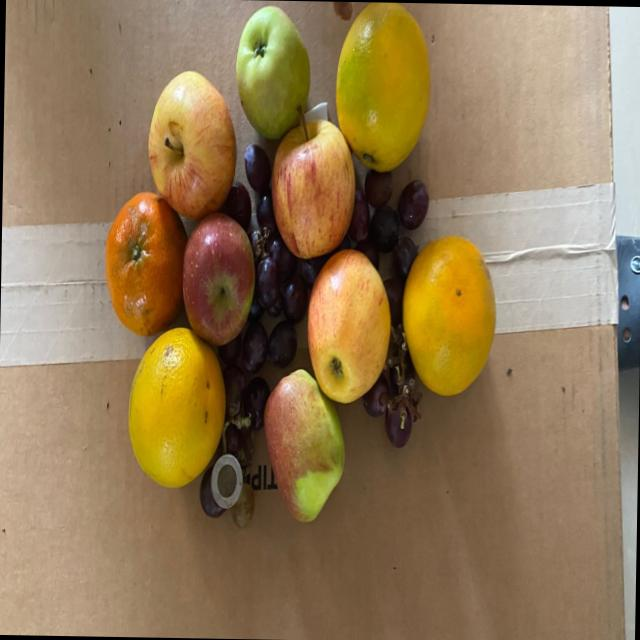moneda: (211, 451, 244, 514)
